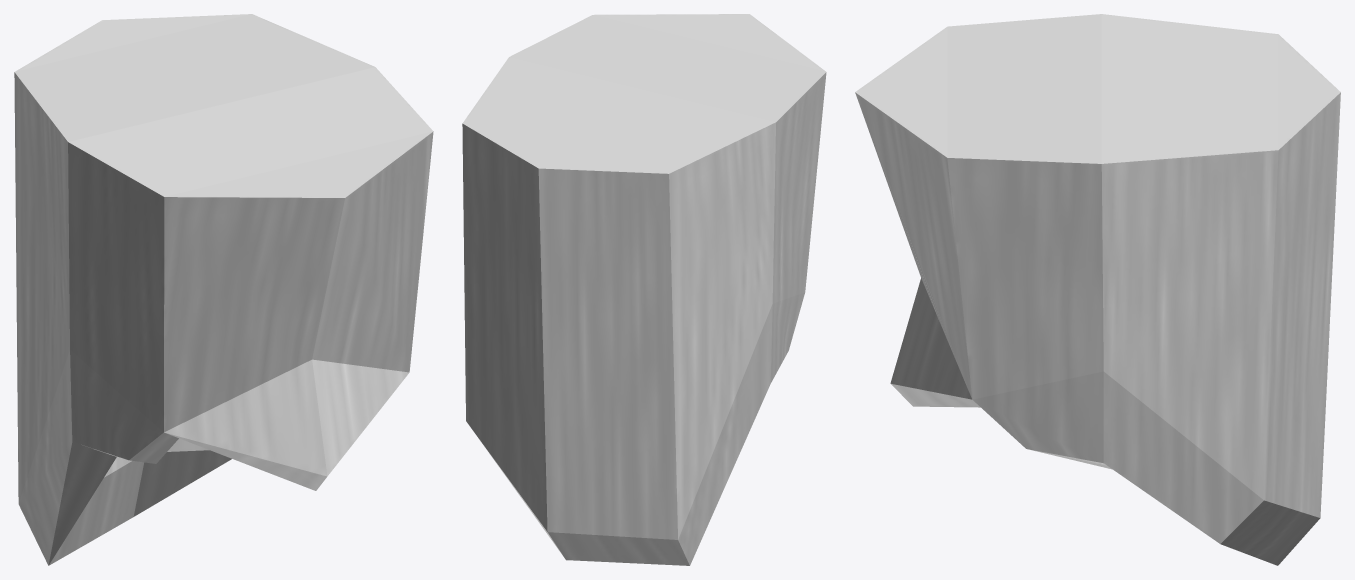
Rendered from slim_jim.glb.
The picture shows the model from 3 angles, left to right: view 1: azimuth 30°, elevation 25°; view 2: azimuth 150°, elevation 25°; view 3: azimuth 270°, elevation 25°; orthographic projection. The views are drawn at different scales.
Parts seen in each view (by area): view 1: Slim Jim; view 2: Slim Jim; view 3: Slim Jim.
Part boxes in pixels (x1,y1,x2,y2): Slim Jim: [14, 14, 433, 565]; Slim Jim: [462, 14, 826, 565]; Slim Jim: [855, 14, 1340, 565].
Size of the model in its own units: 0.2468 by 0.3659 by 0.3378.
Materials: 1 (1 with a texture image).
